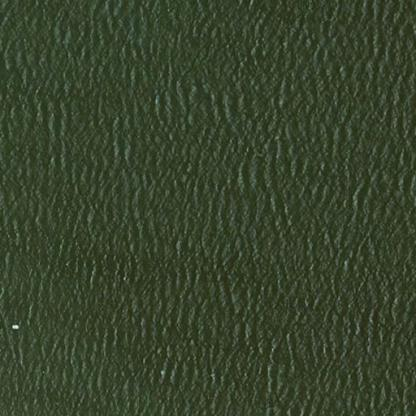ship: (5, 319, 29, 334)
